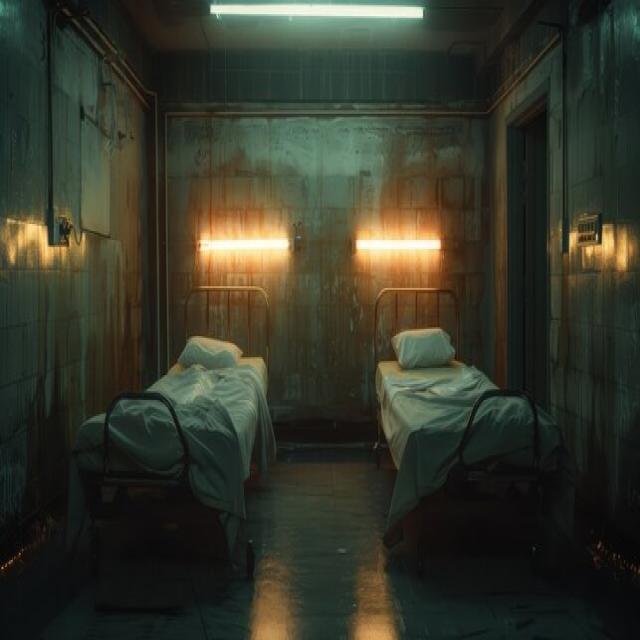bed: (72, 282, 274, 584), (372, 284, 574, 570)
